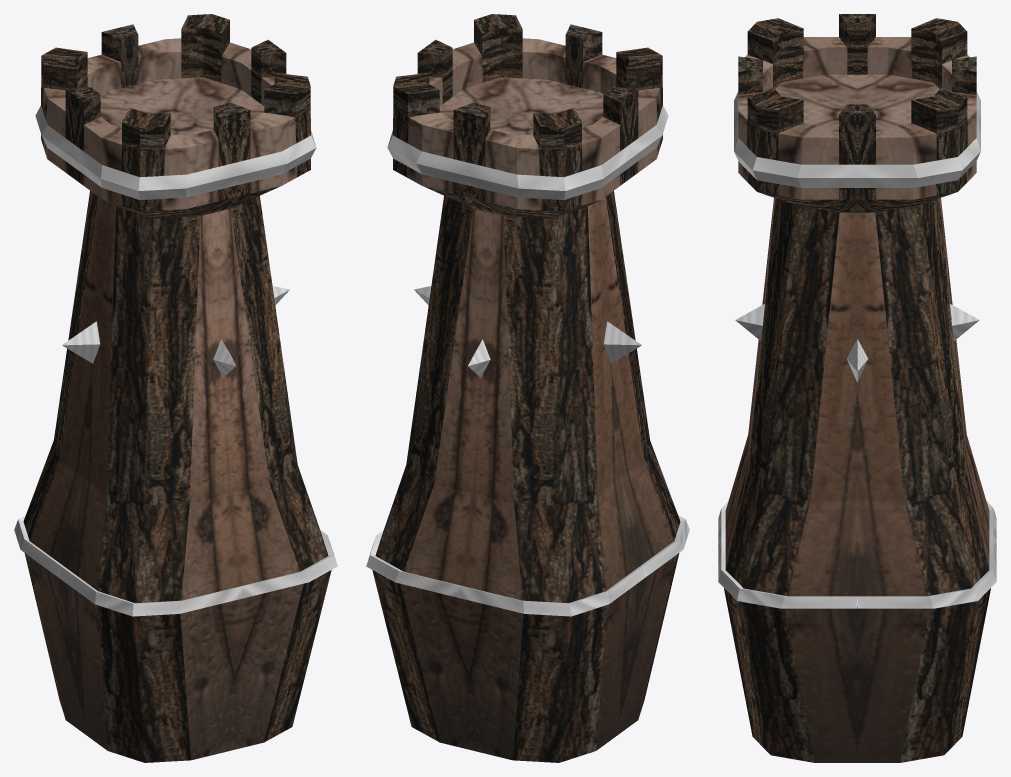
File: toren_3.fbx
The picture shows the model from 3 angles, left to right: view 1: azimuth 30°, elevation 25°; view 2: azimuth 150°, elevation 25°; view 3: azimuth 270°, elevation 25°; orthographic projection.
Parts seen in each view (by area): view 1: Cube; view 2: Cube; view 3: Cube.
Part boxes in pixels (x1,y1,x2,y2): Cube: [14, 14, 337, 762]; Cube: [366, 14, 689, 762]; Cube: [718, 14, 996, 762].
Size of the model in its own units: 551 by 1429 by 551.
